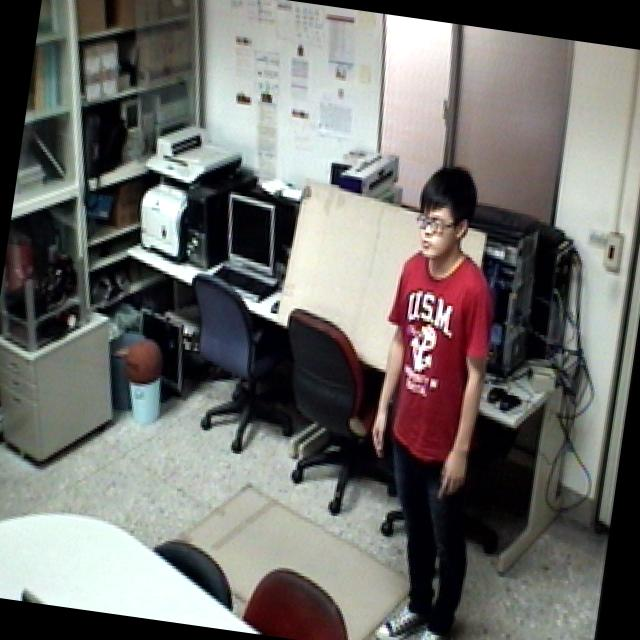stand: (336, 155, 537, 640)
